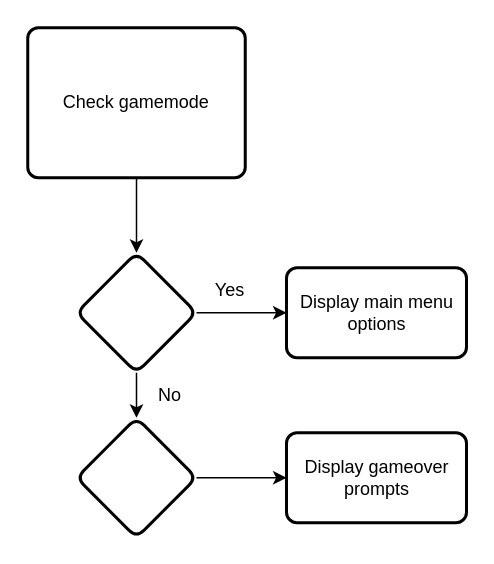
Image size: 494x564. Some labels were removed from this diagram. Each missing label, with the centre of its shape:
Gameover?: the point at 135,477
Main menu?: the point at 135,312
